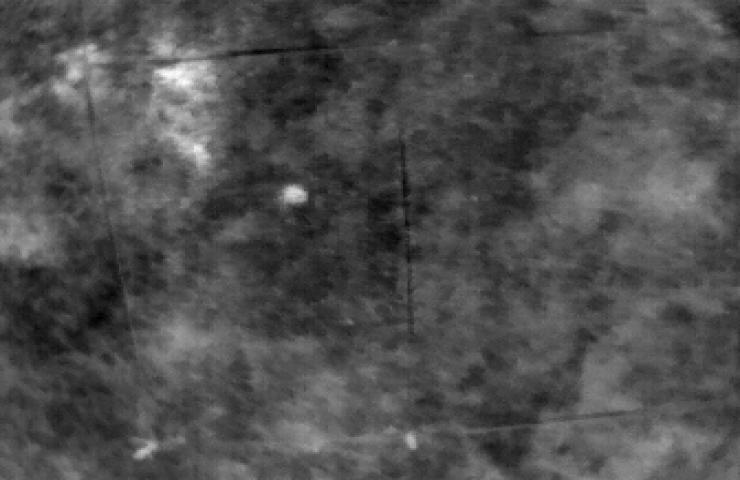landmines: (281, 181, 310, 208)
